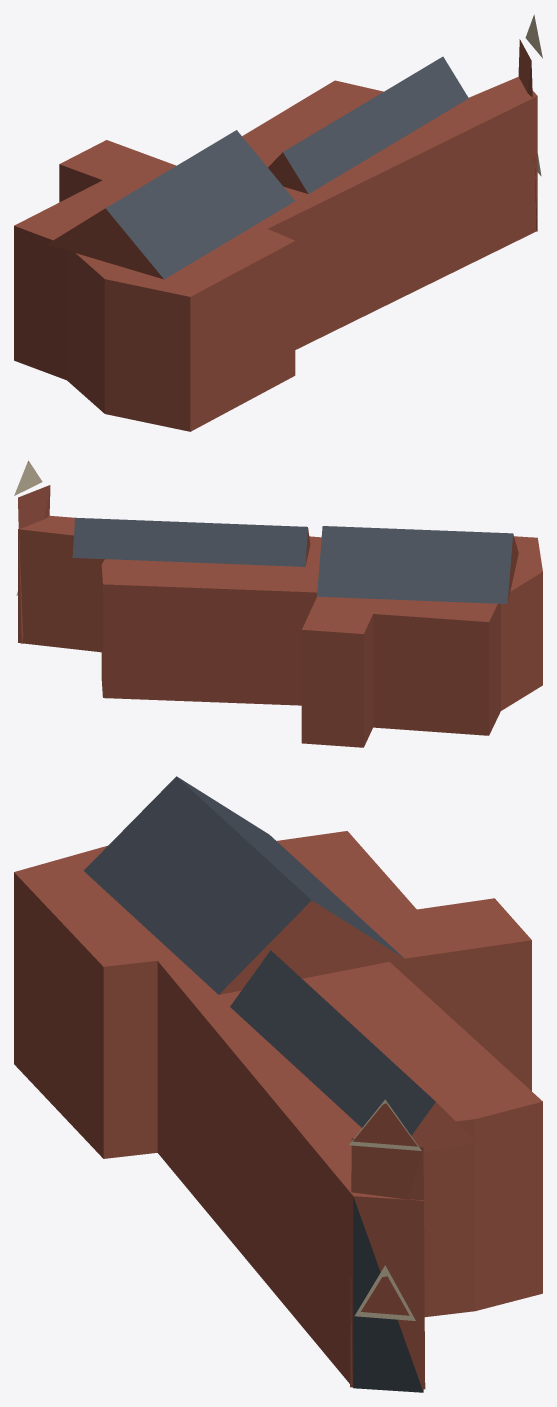
The model's file is de-papegaai.lod2.glb.
3 renders of one model, top to bottom at view 1: azimuth 30°, elevation 25°; view 2: azimuth 150°, elevation 25°; view 3: azimuth 270°, elevation 25°, orthographic. The views are drawn at different scales.
Parts seen in each view (by area): view 1: lod2; view 2: lod2; view 3: lod2.
Part boxes in pixels (<box>): lod2: <box>14,14,542,431</box>; lod2: <box>14,460,542,747</box>; lod2: <box>14,776,542,1392</box>.
Bounding box in the file's own units: 49.2 × 18.07 × 29.45.
